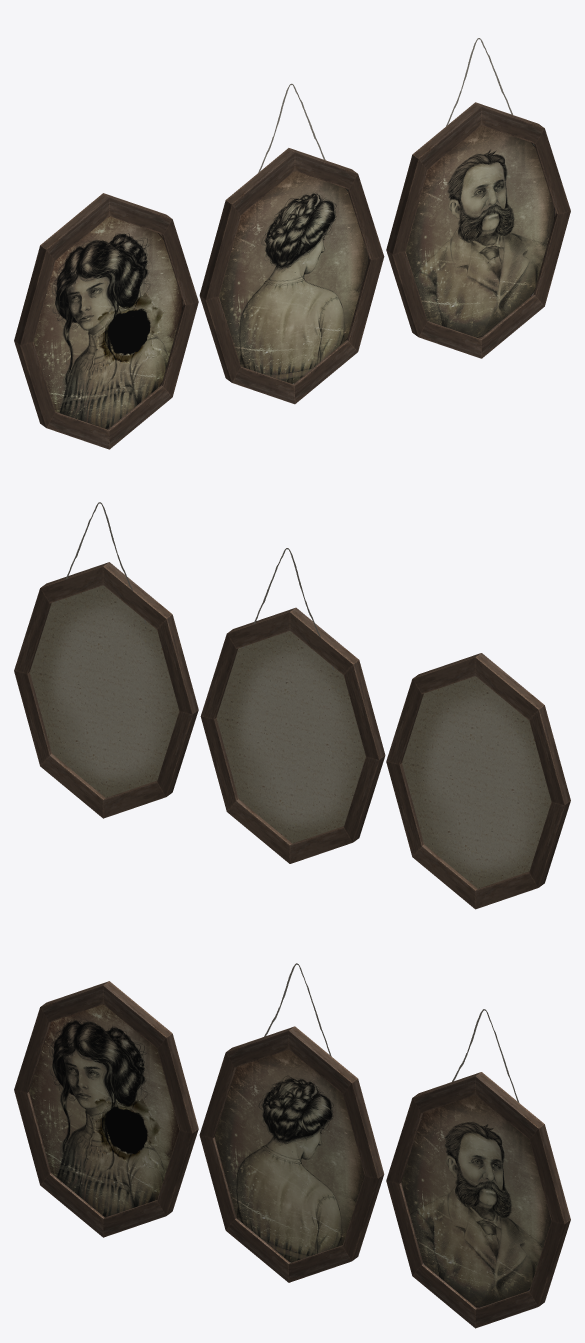
Rendered from Family.Portraits.fbx.
3 renders of one model, top to bottom at view 1: azimuth 30°, elevation 25°; view 2: azimuth 150°, elevation 25°; view 3: azimuth 330°, elevation 25°, orthographic.
Visible parts, largest first — view 1: Plane.002, Plane.001, Plane.003; view 2: Plane.002, Plane.001, Plane.003; view 3: Plane.001, Plane.002, Plane.003.
Boxes of the visible parts, x1,y1,x2,y2 form: Plane.002: (199,83,384,404); Plane.001: (386,38,570,358); Plane.003: (14,193,198,449); Plane.002: (200,548,385,863); Plane.001: (14,502,198,818); Plane.003: (386,653,570,909); Plane.001: (386,1009,570,1328); Plane.002: (199,963,384,1282); Plane.003: (14,981,198,1237).
Size of the model in its own units: 151 by 85.22 by 2.98.
